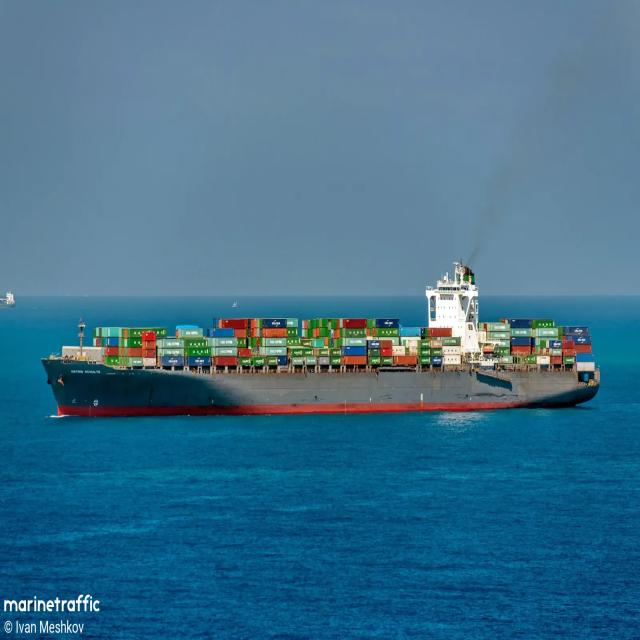Cargo: (42, 262, 599, 416)
